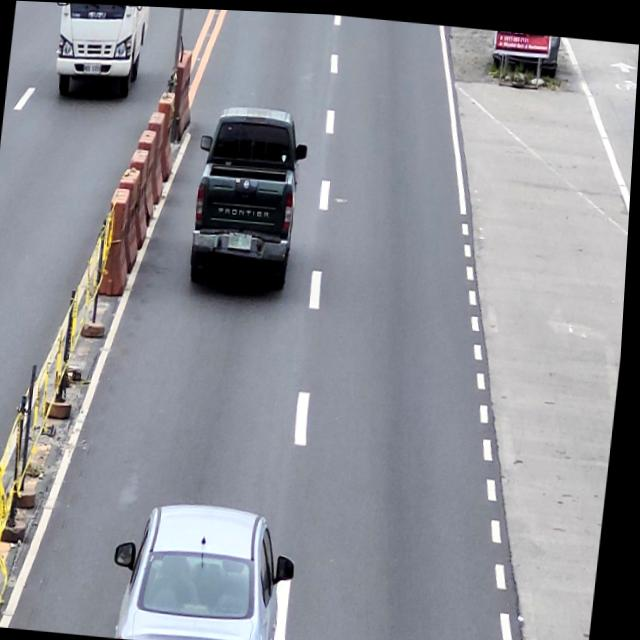Car: (115, 494, 308, 640), (189, 102, 313, 295)
License-Plate: (230, 230, 256, 249)
